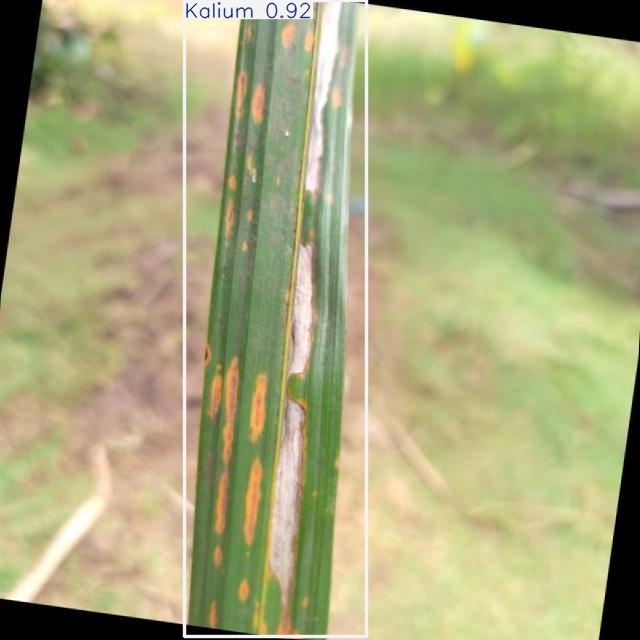Kalium: (185, 1, 367, 637)
